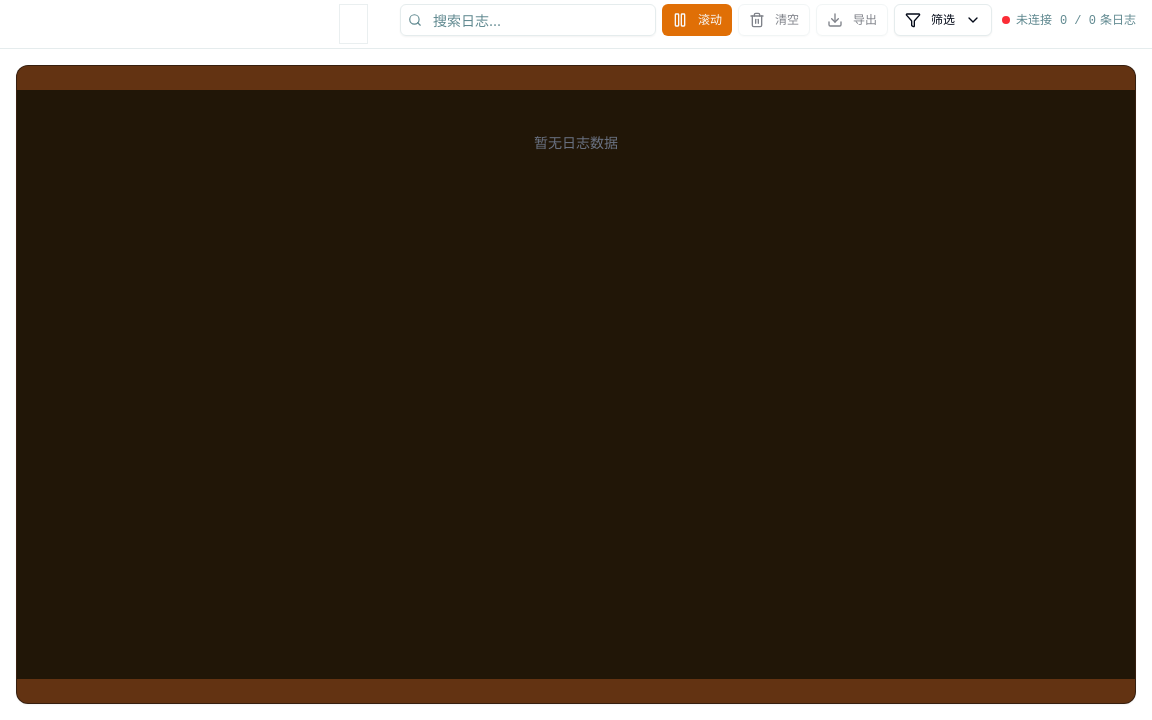
Test: LogViewerPage 终端面板 › 行距与列宽滑块写入设置，并展示新的像素值
The width and height of the screenshot is (1152, 720).
Click the button "筛选" at (943, 20), box [894,4,992,36]
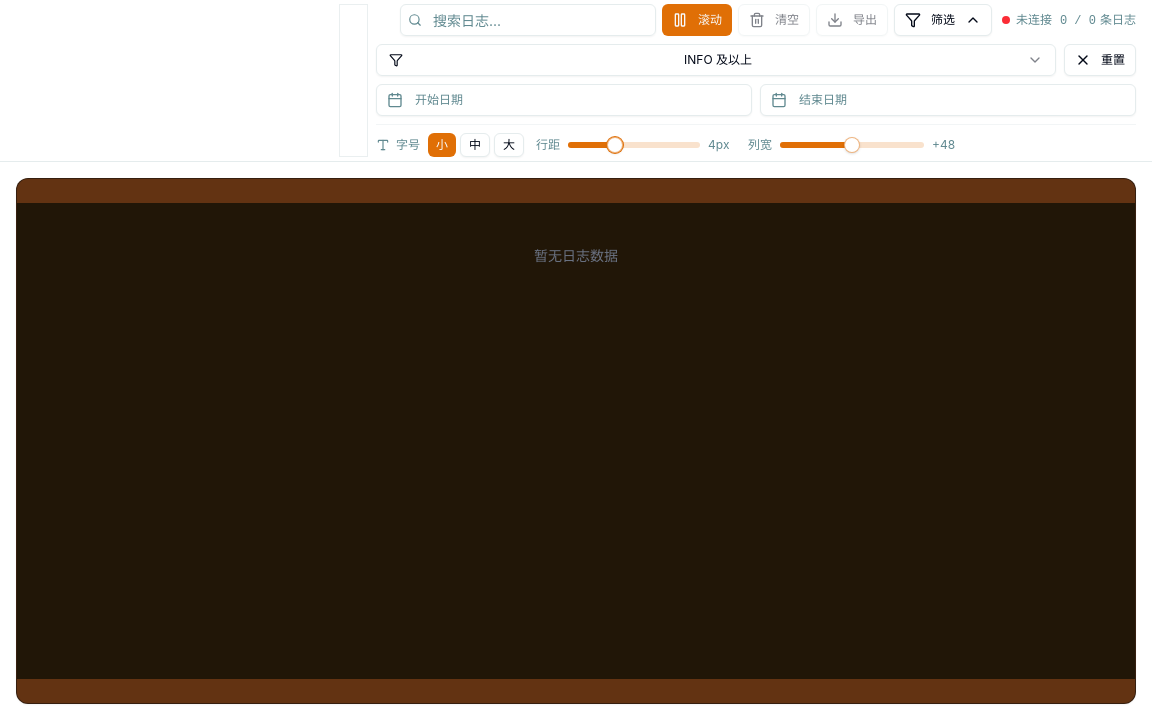
Now the number of sliders is 2
Now the text "4px" is shown, box [708,137,730,152]
Now the text "+48" is shown, box [932,137,955,152]
Press ArrowRight in the slider next to "行距", box [607,137,623,153]
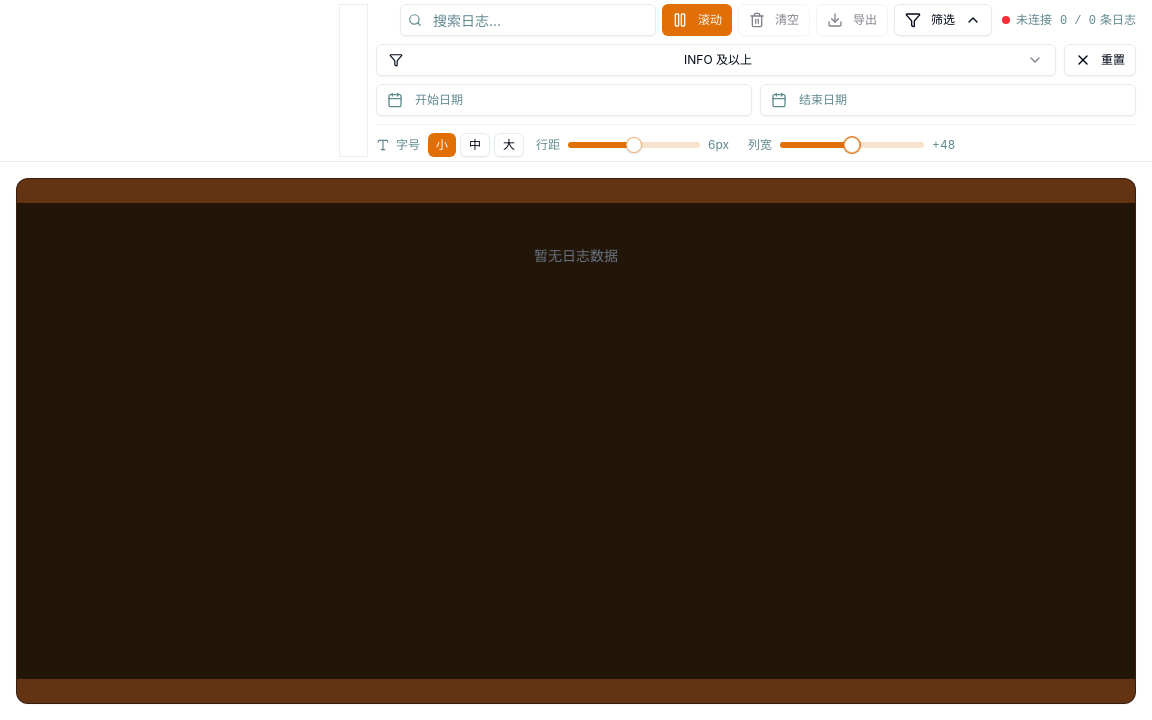
Now the text "6px" is shown, box [708,137,729,152]
Press ArrowRight in the slider next to "列宽", box [844,137,860,153]
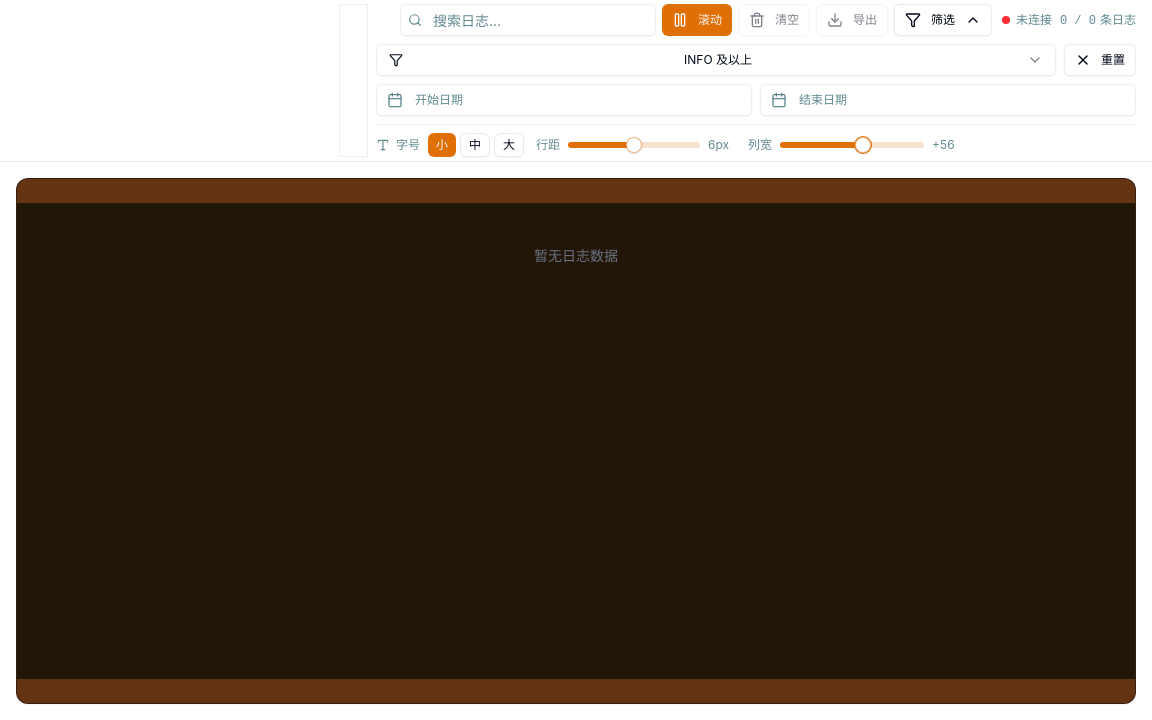
Now the text "+56" is shown, box [932,137,955,152]
